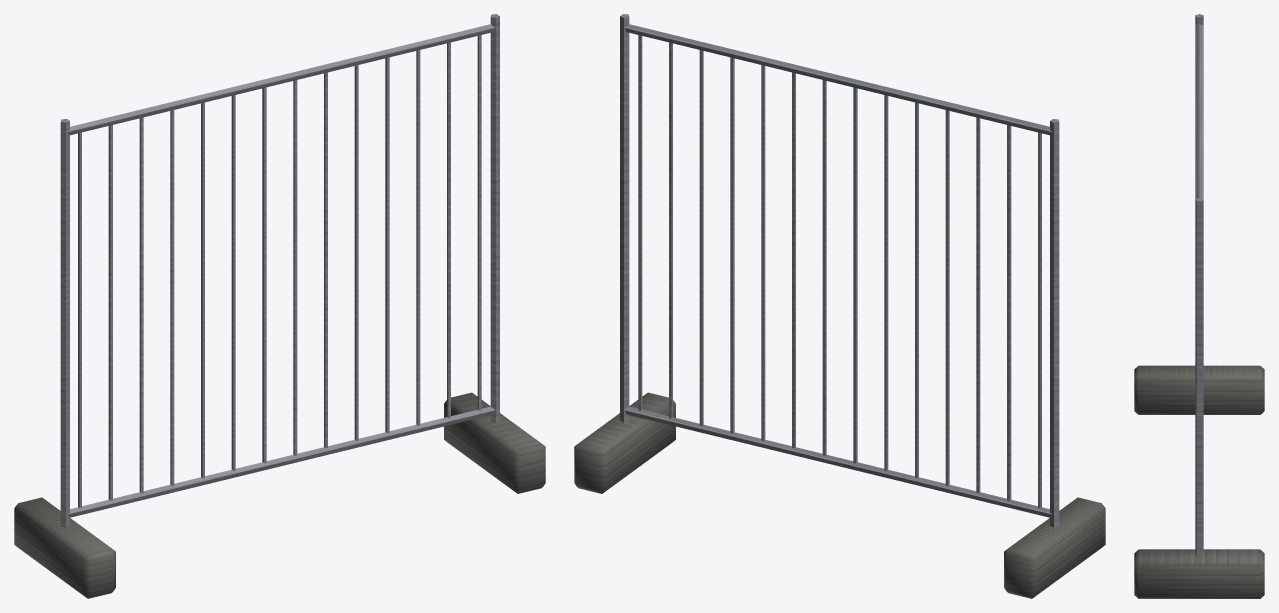
File: grade_obra.glb
The picture shows the model from 3 angles, left to right: view 1: azimuth 30°, elevation 25°; view 2: azimuth 150°, elevation 25°; view 3: azimuth 270°, elevation 25°; orthographic projection. The views are drawn at different scales.
Visible parts, largest first — view 1: Inteiro; view 2: Inteiro; view 3: Inteiro.
Boxes of the visible parts, x1=… form: Inteiro: x1=14, y1=14, x2=545, y2=598; Inteiro: x1=574, y1=14, x2=1105, y2=598; Inteiro: x1=1134, y1=14, x2=1264, y2=598.
Bounding box in the file's own units: 2.15 × 2 × 0.6.
Materials: 1 (1 with a texture image).
